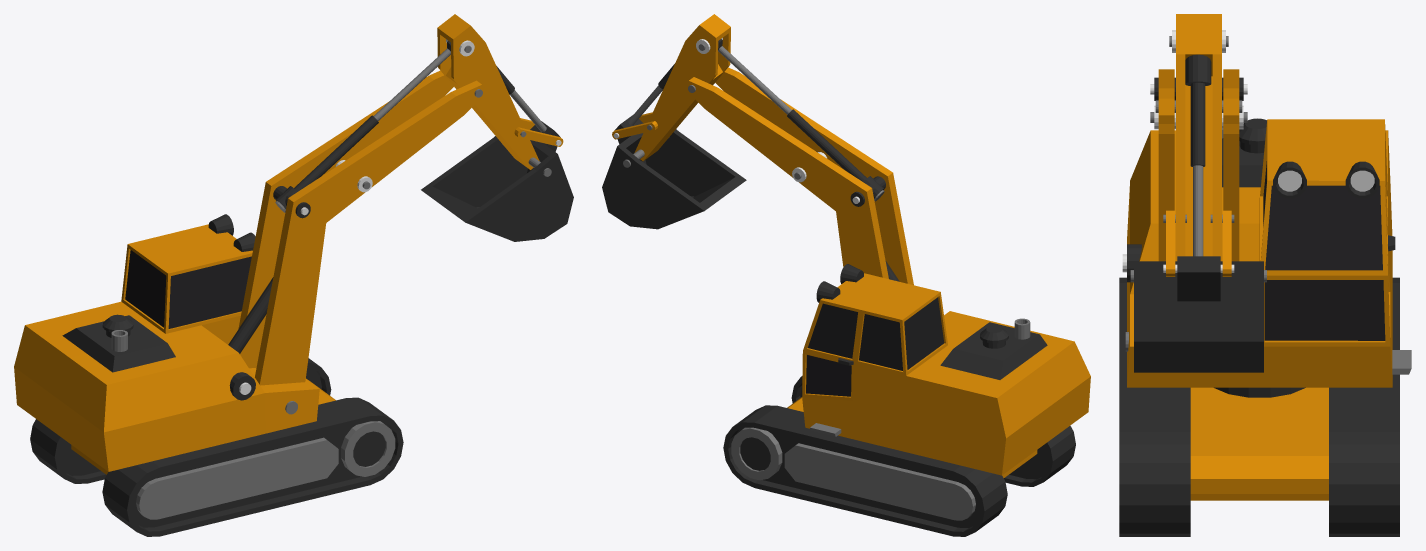
File: Excavator.fbx
The picture shows the model from 3 angles, left to right: view 1: azimuth 30°, elevation 25°; view 2: azimuth 150°, elevation 25°; view 3: azimuth 270°, elevation 25°; orthographic projection. The views are drawn at different scales.
Visible parts, largest first — view 1: Excavator_Body, Excavator_Tracs, Excavator_Arm_Long, Excavator_Bucket, Excavator_Arm_Short, Excavator_Idlers, Excavator_Cylinder_02, Excavator_Cylinder_01, Excavator_Lights; view 2: Excavator_Body, Excavator_Tracs, Excavator_Arm_Long, Excavator_Bucket, Excavator_Arm_Short, Excavator_Idlers, Excavator_Cylinder_02, Excavator_Lights; view 3: Excavator_Body, Excavator_Tracs, Excavator_Base, Excavator_Bucket, Excavator_Arm_Short, Excavator_Arm_Long, Excavator_Cylinder_0, Excavator_Lights, Excavator_Arm_Bucket, Excavator_Filter, Excavator_Turn_Base, Excavator_Step (+3 smaller).
Boxes of the visible parts, box(x1,y1,x2,y2) form: Excavator_Body: box(14, 224, 319, 471); Excavator_Tracs: box(30, 358, 403, 536); Excavator_Arm_Long: box(238, 70, 486, 385); Excavator_Bucket: box(421, 121, 573, 241); Excavator_Arm_Short: box(437, 14, 539, 169); Excavator_Idlers: box(341, 421, 395, 476); Excavator_Cylinder_02: box(275, 41, 450, 212); Excavator_Cylinder_01: box(228, 277, 273, 353); Excavator_Lights: box(208, 214, 255, 251); Excavator_Body: box(802, 273, 1090, 475); Excavator_Tracs: box(723, 376, 1075, 536); Excavator_Arm_Long: box(684, 67, 913, 285); Excavator_Bucket: box(602, 115, 746, 229); Excavator_Arm_Short: box(634, 14, 730, 161); Excavator_Idlers: box(731, 427, 782, 480); Excavator_Cylinder_02: box(718, 39, 884, 201); Excavator_Lights: box(816, 264, 863, 302); Excavator_Body: box(1127, 119, 1392, 387); Excavator_Tracs: box(1119, 277, 1399, 536); Excavator_Base: box(1190, 387, 1328, 500); Excavator_Bucket: box(1134, 256, 1263, 372); Excavator_Arm_Short: box(1176, 14, 1221, 261); Excavator_Arm_Long: box(1158, 69, 1239, 261); Excavator_Cylinder_0: box(1185, 54, 1211, 256); Excavator_Lights: box(1273, 161, 1379, 198); Excavator_Arm_Bucket: box(1166, 210, 1231, 276); Excavator_Filter: box(1239, 118, 1266, 153); Excavator_Turn_Base: box(1214, 387, 1305, 397); Excavator_Step: box(1392, 350, 1411, 374).
Size of the model in its own units: 433 by 363 by 160.
